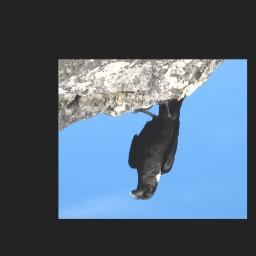Crow: (126, 94, 187, 202)
